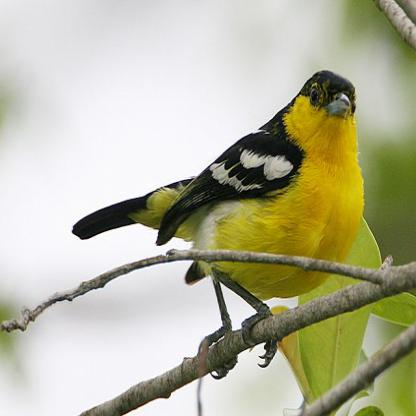Burung: (73, 69, 364, 378)
